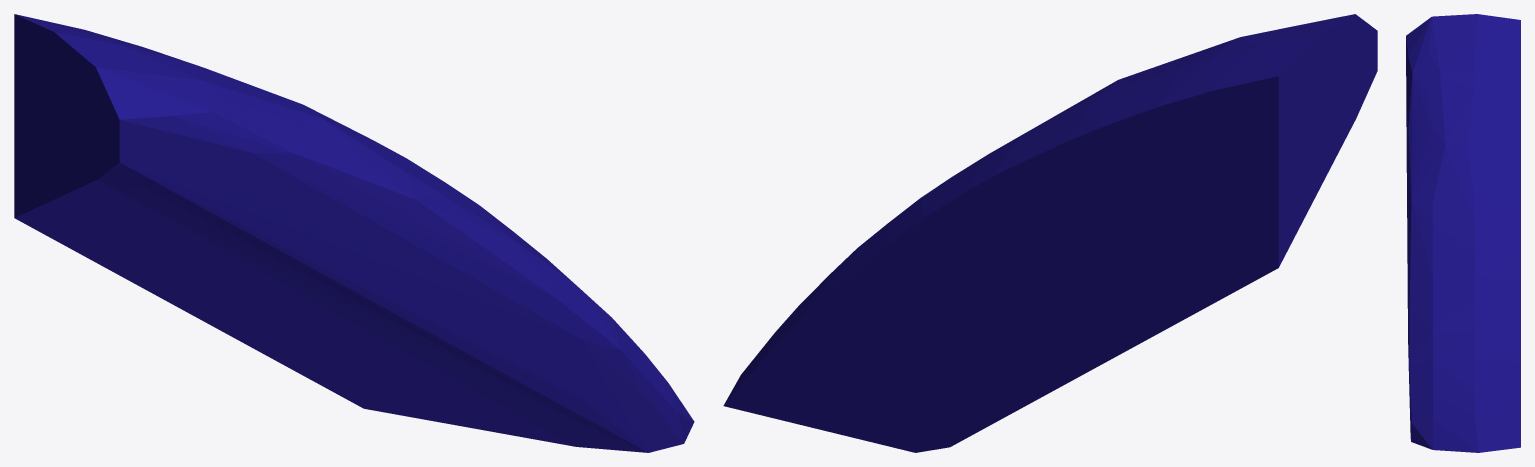
File: piece_20.obj
3 views of the same model, side by side, from view 1: azimuth 30°, elevation 25°; view 2: azimuth 150°, elevation 25°; view 3: azimuth 270°, elevation 25° (orthographic). The views are drawn at different scales.
Bounding box in the file's own units: 0.0156 × 0.0124 × 0.00467.
